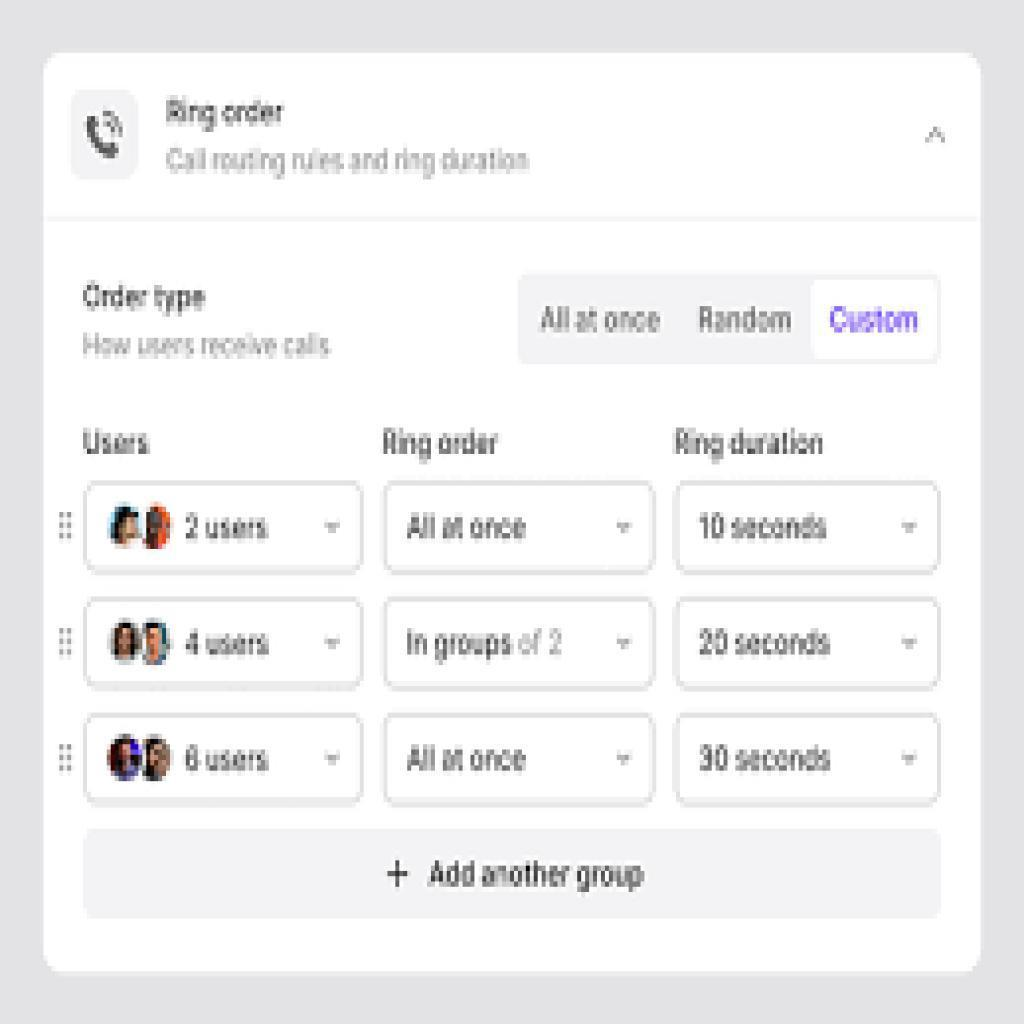button: (84, 830, 942, 920), (814, 281, 939, 360)
dropdown: (154, 83, 963, 183), (387, 599, 654, 692), (388, 482, 655, 573), (88, 599, 364, 687), (85, 486, 364, 572), (387, 716, 653, 806), (678, 599, 940, 689), (676, 484, 940, 573), (678, 716, 940, 805), (88, 718, 362, 800)
icon: (71, 91, 137, 177), (57, 625, 76, 661), (57, 510, 76, 545), (58, 742, 77, 776)
label: (541, 302, 663, 340), (697, 305, 793, 337)
